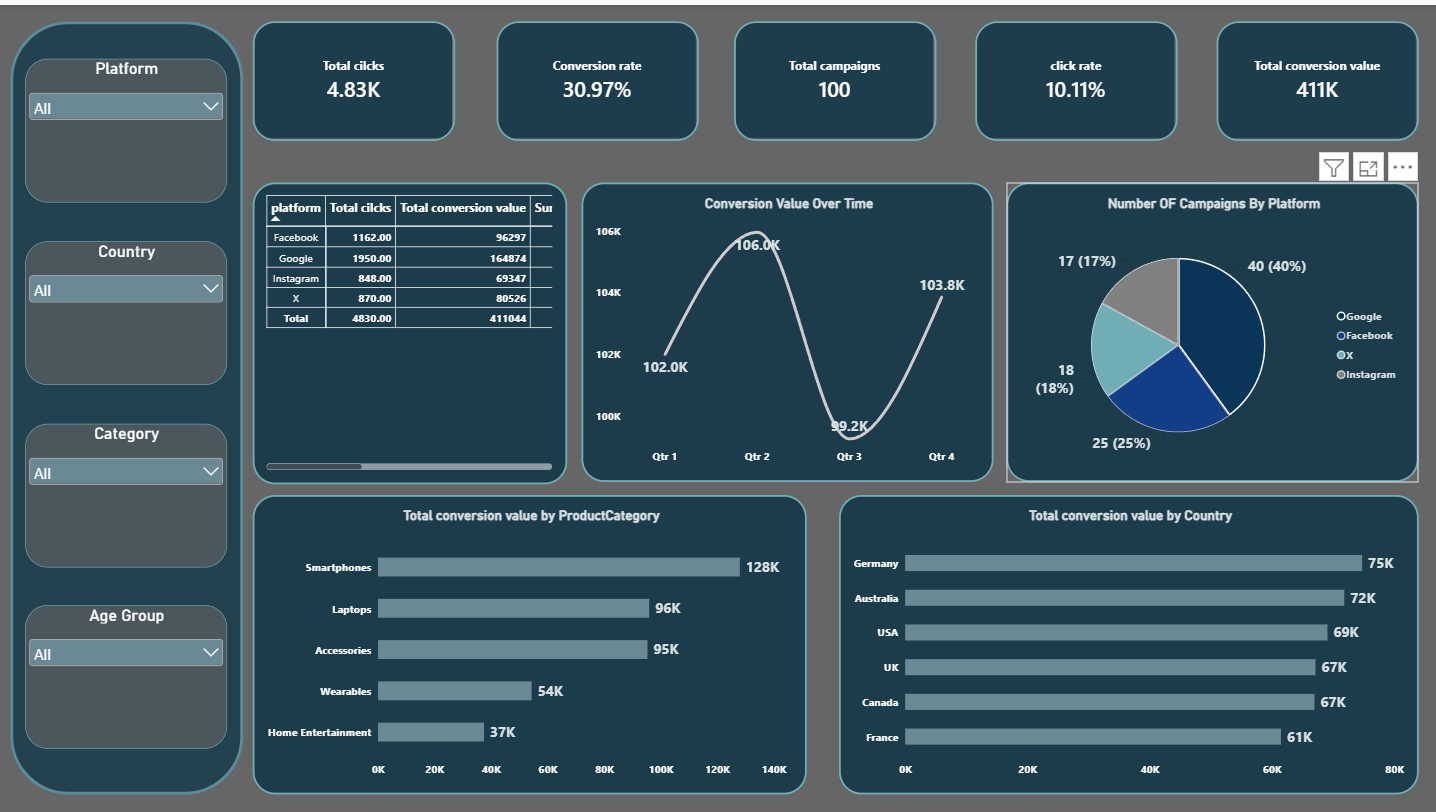

The dashboard page shown, as its layout file describes it:
{"tool":"powerbi","page":{"name":"Page 1","canvas":[1920,1080],"ordinal":0},"visuals":[{"type":"cardVisual","fields":{"Data":["DAX.click rate"]},"box":[1304.8,21.7,270,160],"z":0},{"type":"pieChart","title":"Number OF Campaigns By Platform","fields":{"Category":["campaing_dim.Adpaltform"],"Y":["DAX.Total campaigns"]},"box":[1346.4,237.1,550,400],"z":1000},{"type":"lineChart","title":"Conversion Value Over Time","fields":{"Category":["date_dim.Date.Variation.Date Hierarchy.Quarter"],"Y":["DAX.Total conversion value"]},"box":[777.3,237.1,550,400],"z":2000},{"type":"cardVisual","fields":{"Data":["DAX.Total conversion value"]},"box":[1626.9,21.7,270,160],"z":3000},{"type":"shape","box":[14.5,21.7,311.3,1033.3],"z":4000},{"type":"cardVisual","fields":{"Data":["DAX.Total campaigns"]},"box":[982.6,21.7,270,160],"z":5000},{"type":"cardVisual","fields":{"Data":["DAX.Conversion rate"]},"box":[664.1,21.7,270,160],"z":6000},{"type":"slicer","title":"Platform","fields":{"Values":["campaing_dim.Adpaltform"]},"box":[34.4,72.4,269.6,191.8],"z":7000},{"type":"slicer","title":"Country","fields":{"Values":["customer_dim.Country"]},"box":[34.4,315.5,269.6,191.8],"z":8000},{"type":"slicer","title":"Category","fields":{"Values":["product_dim.ProductCategory"]},"box":[34.4,558.6,269.6,191.8],"z":9000},{"type":"slicer","title":"Age Group","fields":{"Values":["customer_dim.AgeGroup"]},"box":[34.4,801.7,269.6,191.8],"z":10000},{"type":"barChart","fields":{"Category":["customer_dim.Country"],"Y":["DAX.Total conversion value"]},"box":[1122,655.1,774.5,399.9],"z":11000},{"type":"clusteredBarChart","fields":{"Category":["product_dim.ProductCategory"],"Y":["DAX.Total conversion value"]},"box":[338.4,655.1,740.2,399.9],"z":12000},{"type":"pivotTable","fields":{"Rows":["campaing_dim.Adpaltform"],"Values":["DAX.total cilcks","DAX.Total conversion value","Sum(fact.Impressions)","DAX.Conversion rate","DAX.click rate","DAX.Total customers"]},"box":[338.4,237.1,419.8,403.6],"z":13000},{"type":"cardVisual","fields":{"Data":["DAX.total cilcks"]},"box":[338.4,21.7,270,160],"z":14000}]}

Visuals, with their boxes in screenshot pixels (x1, y1, x2, y2), scaled from the page's 1920x1080 canvas onto the 1436x812 screenshot:
cardVisual - DAX.click rate: [976, 16, 1178, 137]
"Number OF Campaigns By Platform" pieChart: [1007, 178, 1418, 479]
"Conversion Value Over Time" lineChart: [581, 178, 993, 479]
cardVisual - DAX.Total conversion value: [1217, 16, 1419, 137]
shape: [11, 16, 244, 793]
cardVisual - DAX.Total campaigns: [735, 16, 937, 137]
cardVisual - DAX.Conversion rate: [497, 16, 699, 137]
"Platform" slicer: [26, 54, 227, 199]
"Country" slicer: [26, 237, 227, 381]
"Category" slicer: [26, 420, 227, 564]
"Age Group" slicer: [26, 603, 227, 747]
barChart - customer_dim.Country x DAX.Total conversion value: [839, 493, 1418, 793]
clusteredBarChart - product_dim.ProductCategory x DAX.Total conversion value: [253, 493, 807, 793]
pivotTable - campaing_dim.Adpaltform x DAX.total cilcks: [253, 178, 567, 482]
cardVisual - DAX.total cilcks: [253, 16, 455, 137]
